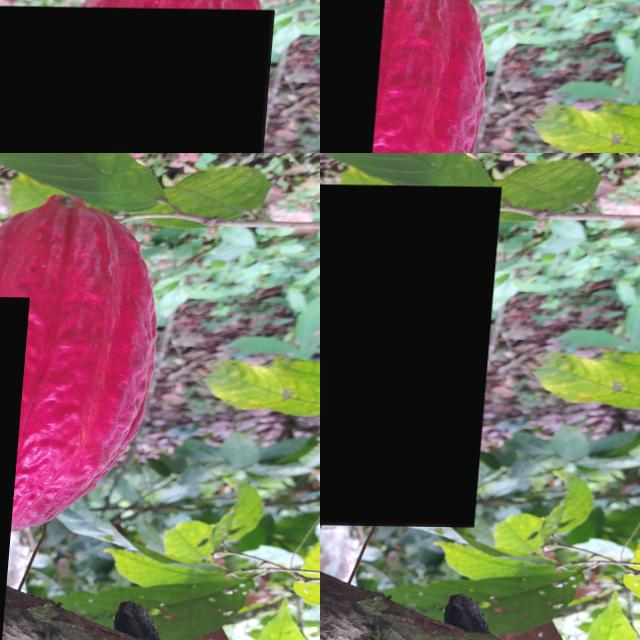Monilia: (0, 5, 277, 153)
Sana: (320, 182, 502, 525), (382, 0, 553, 153), (320, 0, 388, 153)
